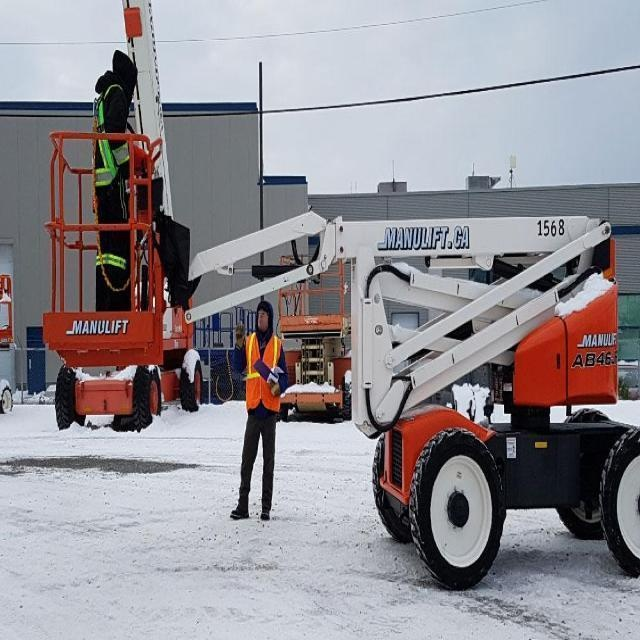Arnes_seguridad: (94, 85, 129, 192)
